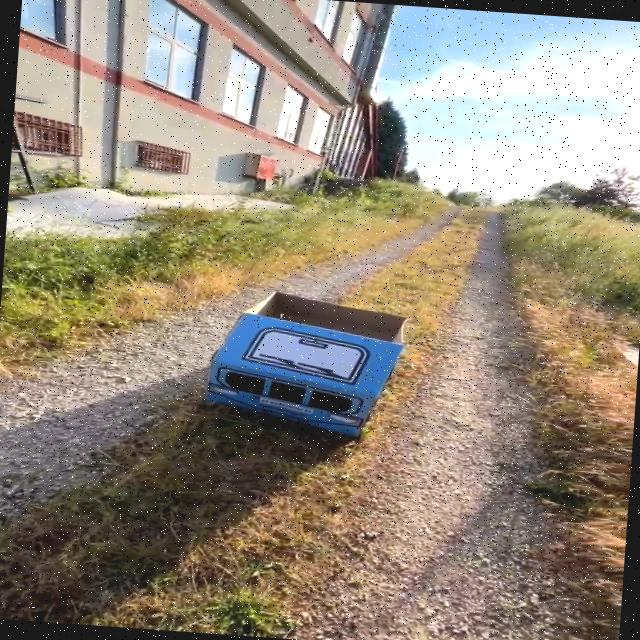blue_car: (169, 283, 471, 467)
